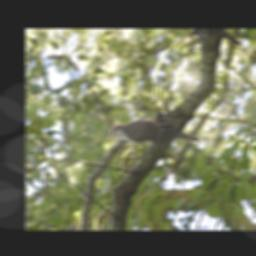Cuckoo: (104, 100, 203, 177)
